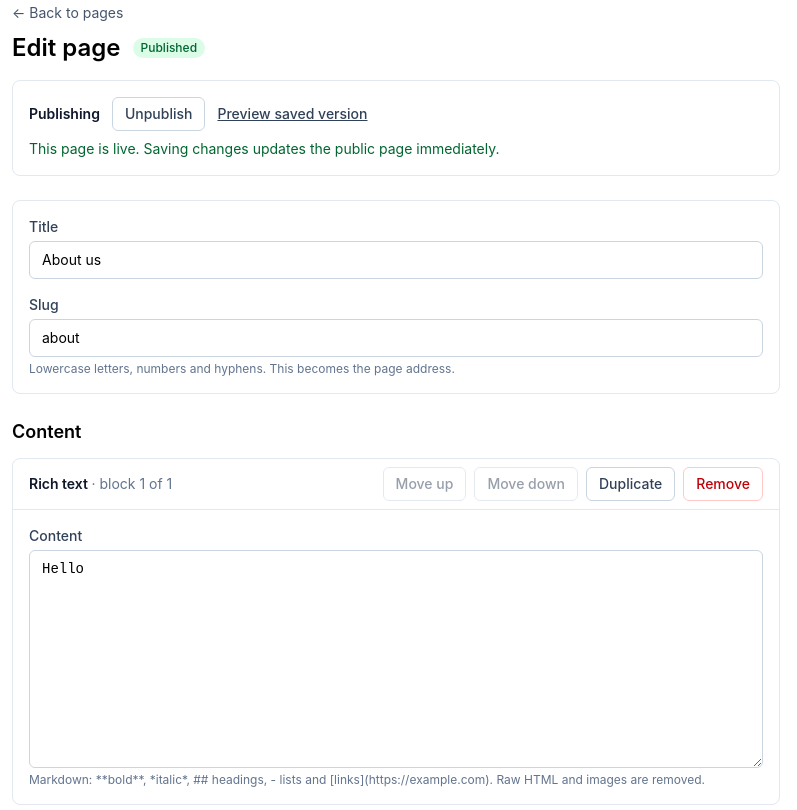
Test case: PageFormView publishing › keeps unsaved edits when unpublishing
Replace the text in the field labelled "Title" with "Unsaved title" at (396, 260), box [29, 241, 763, 279]
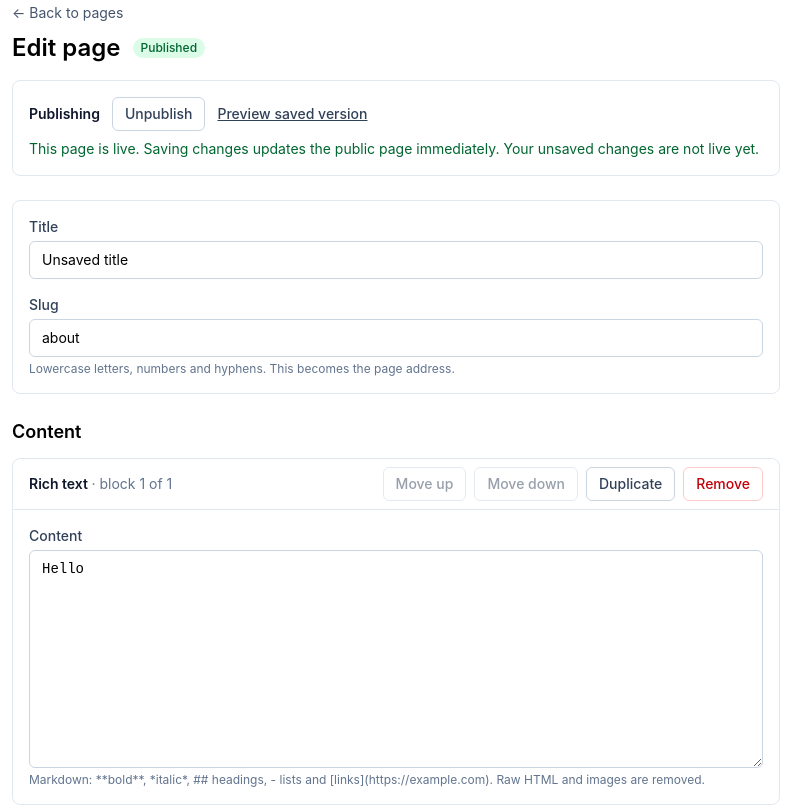
Click the button with test id "unpublish".
click(159, 114)  # box [112, 97, 205, 131]
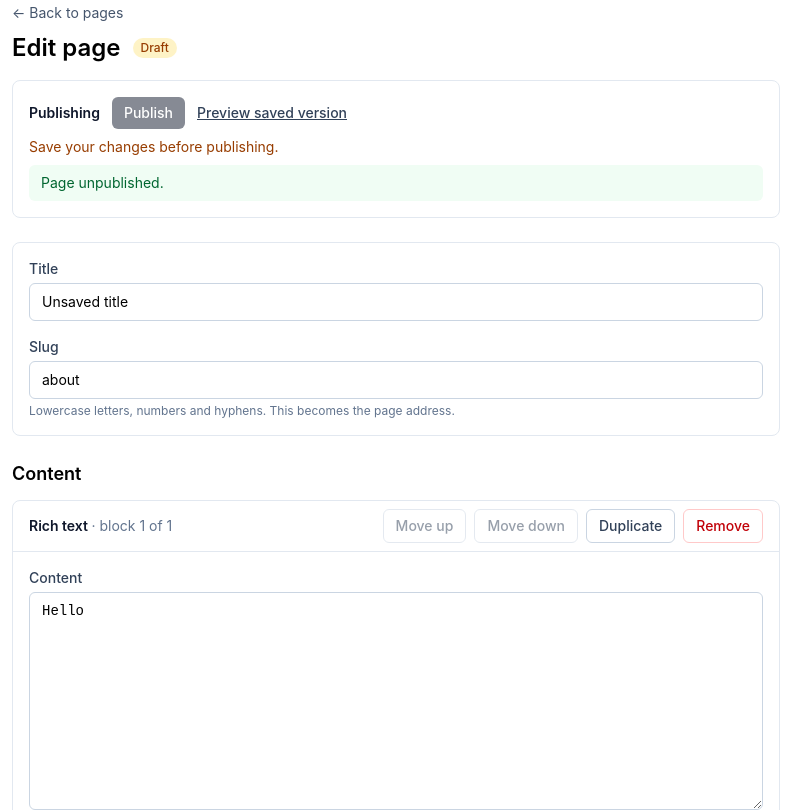
Now the message with test id "publish-notice" reads "Page unpublished.", box [41, 174, 164, 191]
Now the button with test id "publish" is shown, box [112, 97, 185, 129]
Now the text "Save your changes before publishing." is shown, box [29, 138, 278, 155]
